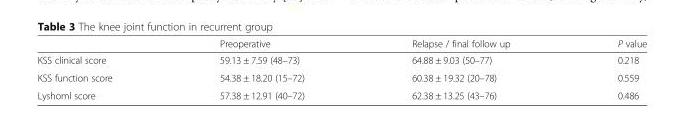table: (36, 37, 646, 100)
table column: (357, 37, 563, 100), (165, 37, 357, 100), (36, 37, 165, 100), (563, 37, 646, 100)
table column header: (36, 37, 646, 51)
table row: (36, 68, 646, 86), (36, 51, 646, 68), (36, 37, 646, 51), (36, 86, 646, 100)
